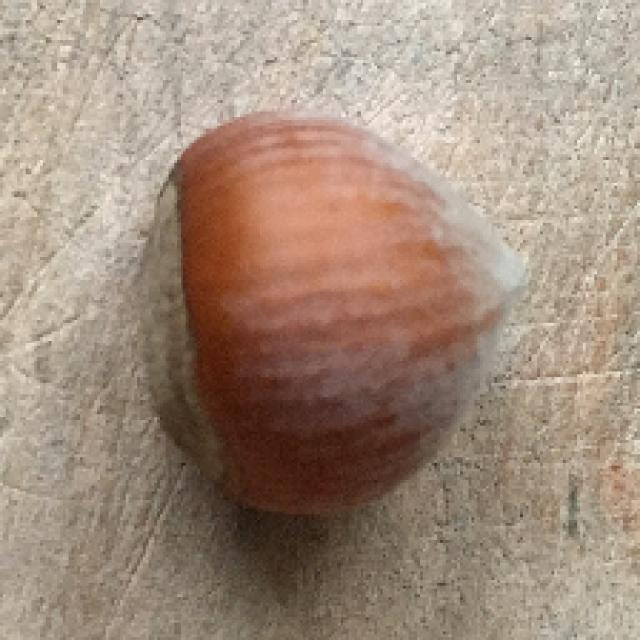qualityHazelnut: (123, 88, 546, 538)
